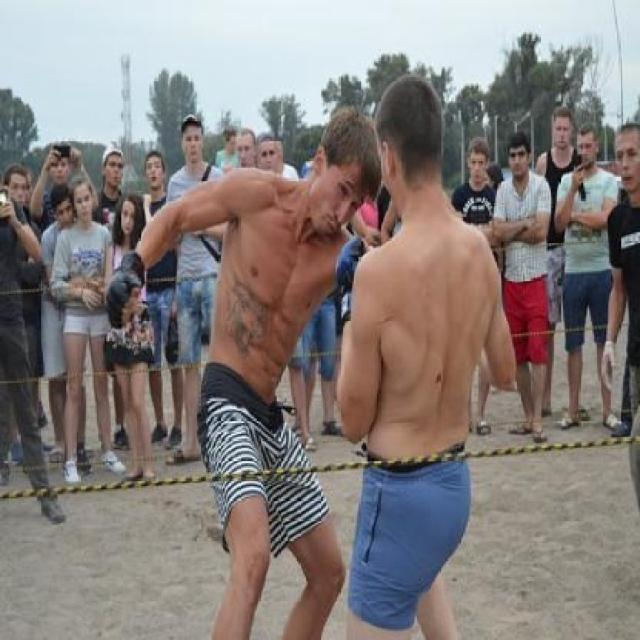fight: (105, 71, 502, 640), (6, 126, 162, 489), (491, 88, 640, 460)
